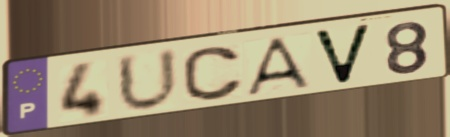4: (55, 59, 111, 120)
8: (383, 20, 432, 75)
A: (242, 35, 315, 99)
C: (180, 44, 248, 104)
U: (114, 45, 182, 115)
V: (309, 22, 376, 88)
